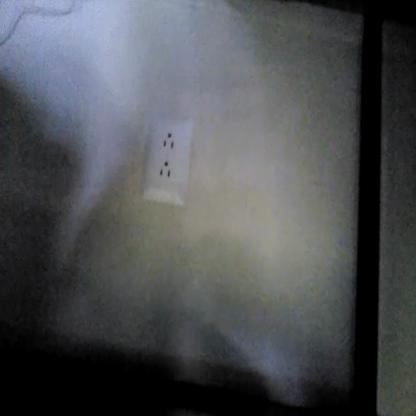OUTLET: (142, 112, 194, 209)
